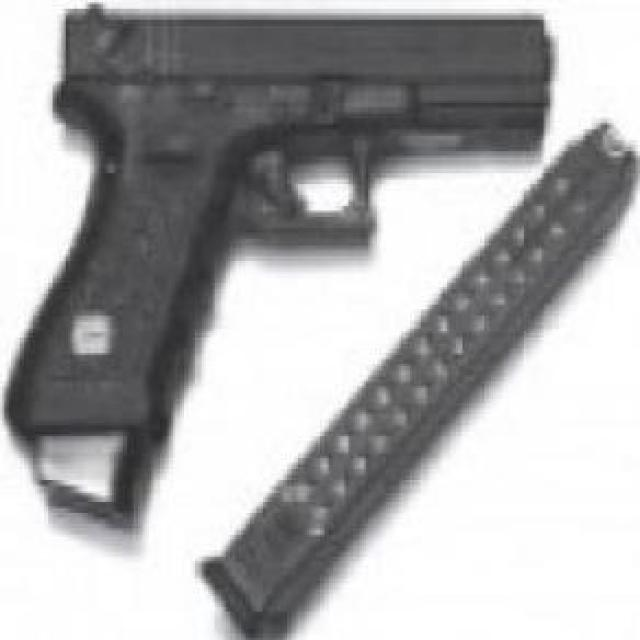pistol: (12, 4, 555, 520)
